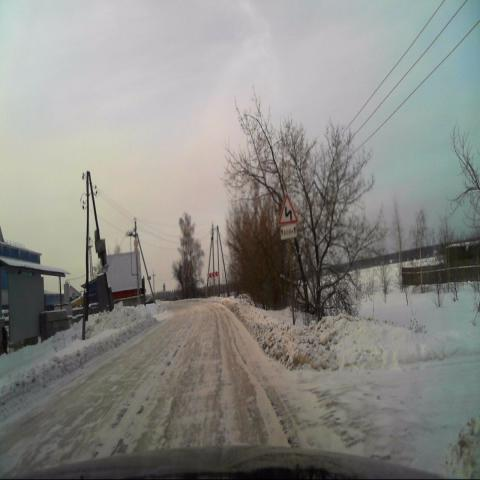1_12_2: (279, 194, 297, 223)
